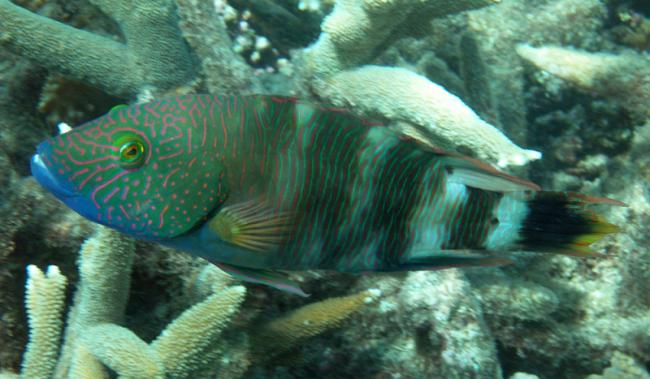fish: (32, 93, 624, 271)
